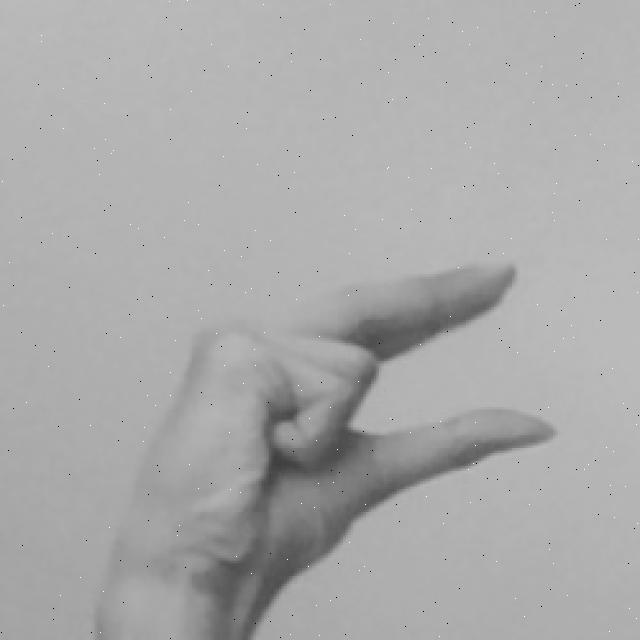G: (90, 257, 565, 640)
